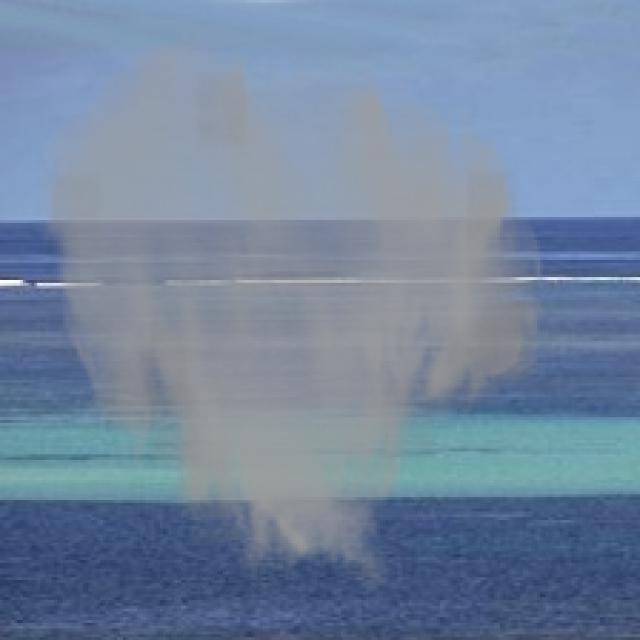smoke: (34, 32, 549, 597)
